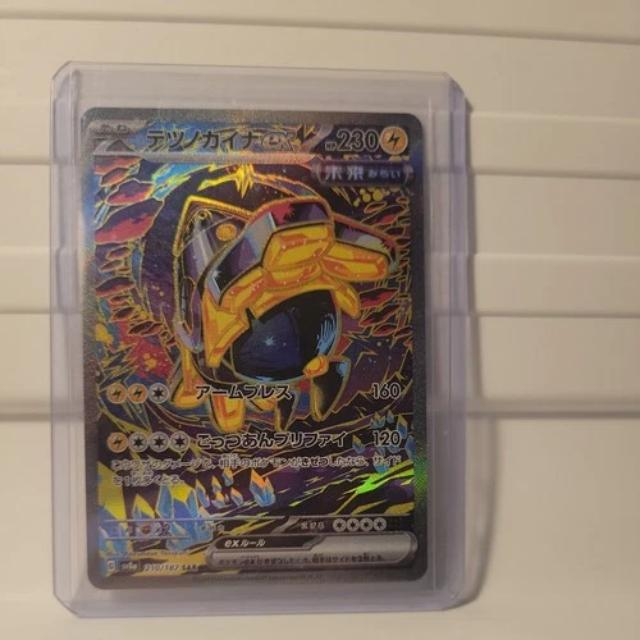Card: (73, 102, 432, 595)
Name: (138, 119, 308, 158)
